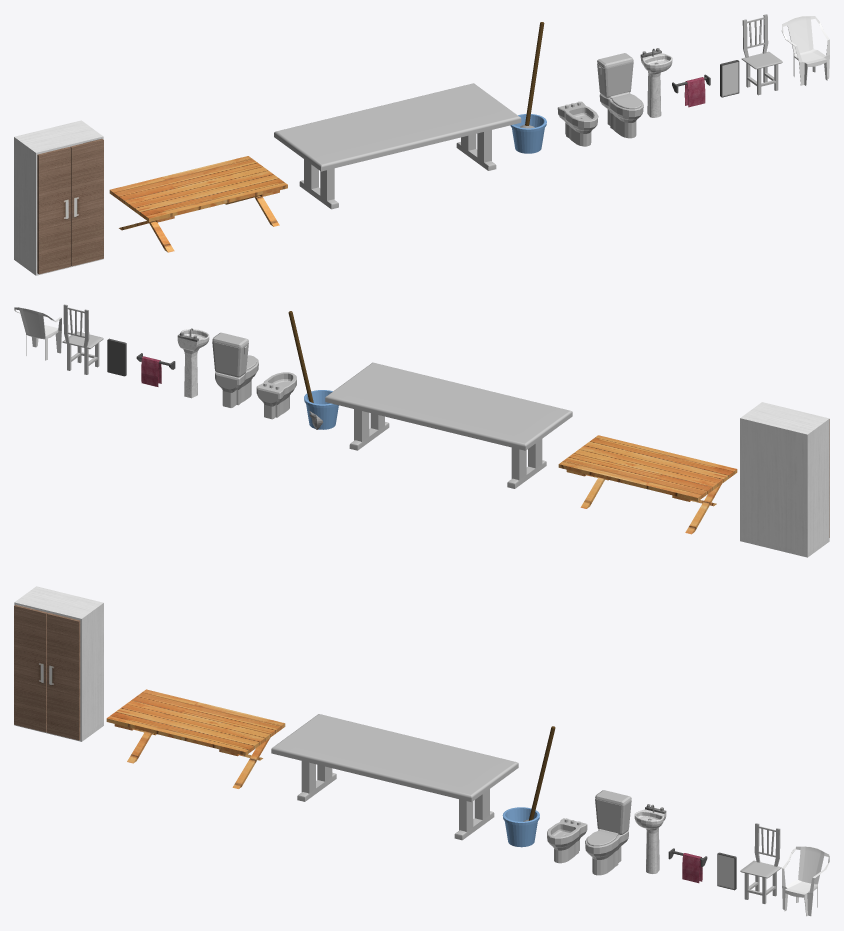
Rendered from Muebles Quincho.fbx.
The picture shows the model from 3 angles, top to bottom: view 1: azimuth 30°, elevation 25°; view 2: azimuth 150°, elevation 25°; view 3: azimuth 330°, elevation 25°; orthographic projection.
Parts seen in each view (by area): view 1: Mesa Quincho, Mesa Exterior Quincho, Mueble Quincho, Puerta Mueble Izquierda, Puerta Mueble Derecha, Inodoro Quincho, Silla Plastico Quincho, Silla Quincho, Mopa y Balde, Bidet Quincho, Lavamanos Quincho, Sosten Toalla Quincho (+1 smaller); view 2: Mesa Quincho, Mueble Quincho, Mesa Exterior Quincho, Inodoro Quincho, Silla Quincho, Mopa y Balde, Bidet Quincho, Lavamanos Quincho, Silla Plastico Quincho, Espejo Baño Quincho, Sosten Toalla Quincho; view 3: Mesa Quincho, Mesa Exterior Quincho, Mueble Quincho, Puerta Mueble Derecha, Puerta Mueble Izquierda, Inodoro Quincho, Silla Plastico Quincho, Silla Quincho, Mopa y Balde, Bidet Quincho, Lavamanos Quincho, Espejo Baño Quincho (+1 smaller).
Boxes of the visible parts, x1,y1,x2,y2 form: Mesa Quincho: (274,83,521,209); Mesa Exterior Quincho: (109,156,287,252); Mueble Quincho: (14,120,103,275); Puerta Mueble Izquierda: (37,147,70,274); Puerta Mueble Derecha: (70,139,103,266); Inodoro Quincho: (597,53,643,138); Silla Plastico Quincho: (781,16,829,85); Silla Quincho: (741,14,782,95); Mopa y Balde: (510,22,546,153); Bidet Quincho: (557,101,598,146); Lavamanos Quincho: (640,48,672,117); Sosten Toalla Quincho: (672,74,710,107); Mesa Quincho: (325,362,572,488); Mueble Quincho: (740,402,829,557); Mesa Exterior Quincho: (558,435,737,534); Inodoro Quincho: (212,332,258,407); Silla Quincho: (62,304,103,374); Mopa y Balde: (288,311,338,429); Bidet Quincho: (256,372,296,419); Lavamanos Quincho: (177,328,209,398); Silla Plastico Quincho: (14,307,61,360); Espejo Baño Quincho: (107,338,126,376); Sosten Toalla Quincho: (136,353,175,386); Mesa Quincho: (271,714,518,840); Mesa Exterior Quincho: (106,689,285,788); Mueble Quincho: (14,586,103,741); Puerta Mueble Derecha: (47,613,80,740); Puerta Mueble Izquierda: (14,604,47,732); Inodoro Quincho: (585,790,631,875); Silla Plastico Quincho: (782,846,829,916); Silla Quincho: (740,823,781,903); Mopa y Balde: (502,726,555,847); Bidet Quincho: (547,818,587,863); Lavamanos Quincho: (634,804,666,873); Espejo Baño Quincho: (717,852,736,890).
Size of the model in its own units: 28.07 by 4.18 by 2.87.
